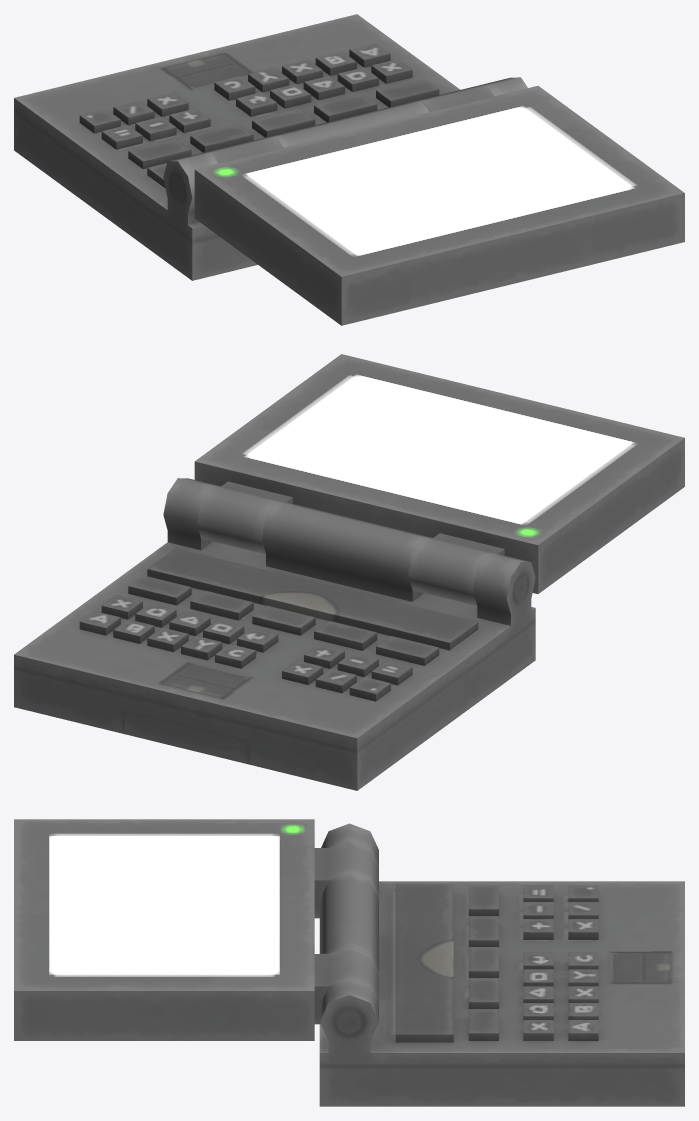
File: Prfb_Computer__2.fbx
3 renders of one model, top to bottom at view 1: azimuth 30°, elevation 25°; view 2: azimuth 150°, elevation 25°; view 3: azimuth 270°, elevation 25°, orthographic. The views are drawn at different scales.
Parts seen in each view (by area): view 1: Mat_Computer_01_01; view 2: Mat_Computer_01_01; view 3: Mat_Computer_01_01.
Boxes of the visible parts, x1=… form: Mat_Computer_01_01: x1=14, y1=14, x2=684, y2=325; Mat_Computer_01_01: x1=14, y1=354, x2=684, y2=790; Mat_Computer_01_01: x1=14, y1=819, x2=684, y2=1106.
Bounding box in the file's own units: 0.4671 × 0.1472 × 0.7716.
1 material, 1 textured.
